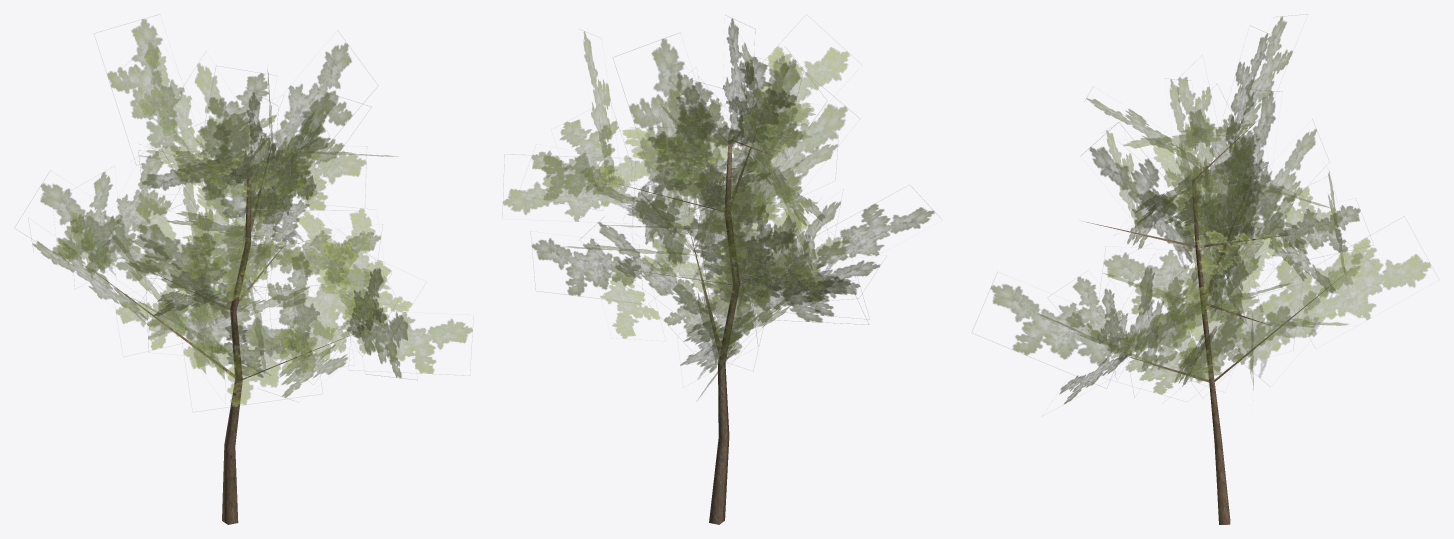
File: nyc-tree.glb
The picture shows the model from 3 angles, left to right: view 1: azimuth 30°, elevation 25°; view 2: azimuth 150°, elevation 25°; view 3: azimuth 270°, elevation 25°; orthographic projection. The views are drawn at different scales.
Visible parts, largest first — view 1: Tree_0 (×2); view 2: Tree_0 (×2); view 3: Tree_0 (×2).
Part boxes in pixels (<box>): Tree_0 (×2): <box>14,14,473,524</box>; Tree_0 (×2): <box>502,14,936,524</box>; Tree_0 (×2): <box>971,14,1439,524</box>.
Size of the model in its own units: 10.72 by 13.79 by 12.08.
2 materials, 2 textured.
